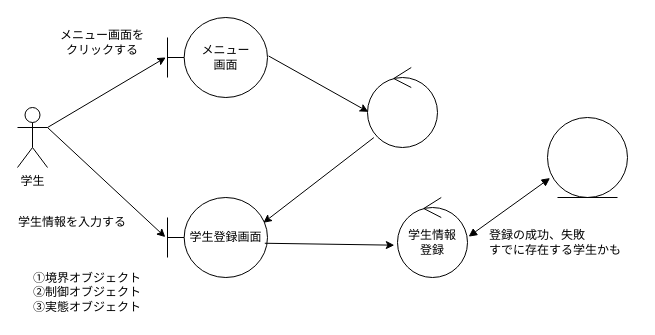
The diagram is 655 pixels wide and 335 high, and some of its shapes have lost their labels. The centre of each missing label's shape, as x and y in pixels:
学生 オブジェクト(データ): (x=587, y=157)
表示（する）: (x=402, y=107)
